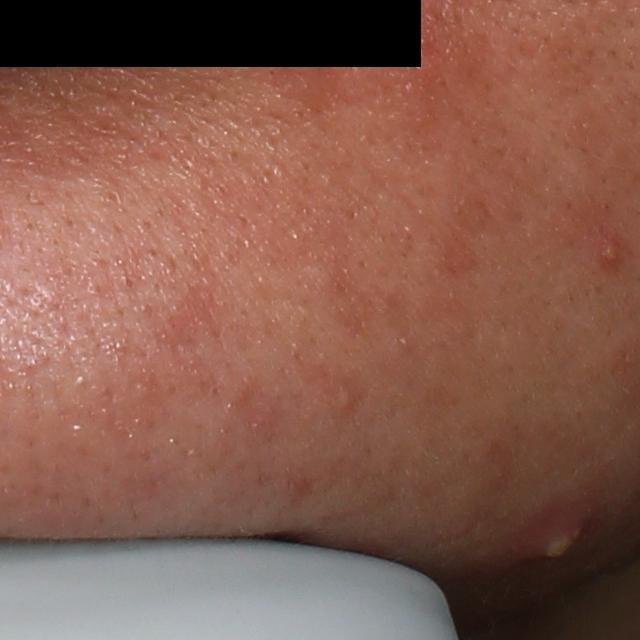pustule: (514, 506, 598, 573), (595, 231, 627, 272)
